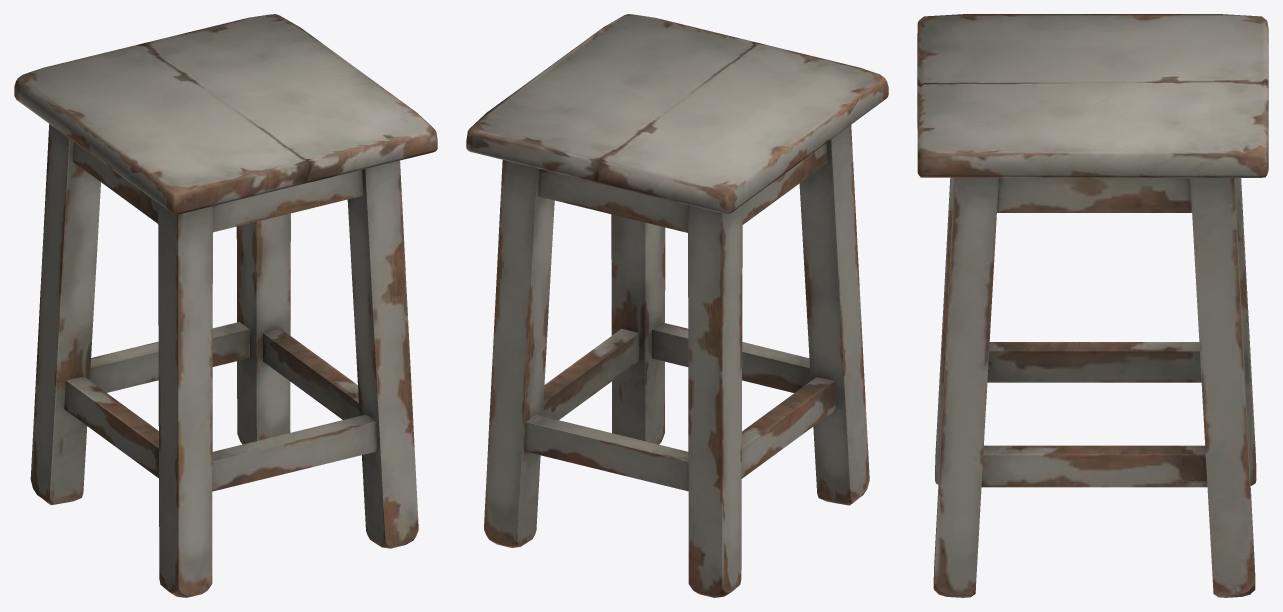
File: painted_wooden_stool.glb
The picture shows the model from 3 angles, left to right: view 1: azimuth 30°, elevation 25°; view 2: azimuth 150°, elevation 25°; view 3: azimuth 270°, elevation 25°; orthographic projection. The views are drawn at different scales.
Visible parts, largest first — view 1: painted_wooden_stool; view 2: painted_wooden_stool; view 3: painted_wooden_stool.
Boxes of the visible parts, <box> form: painted_wooden_stool: <box>14,14,437,597</box>; painted_wooden_stool: <box>466,14,888,597</box>; painted_wooden_stool: <box>917,14,1268,597</box>.
Size of the model in its own units: 0.384 by 0.5789 by 0.4057.
Materials: 1 (1 with a texture image).
